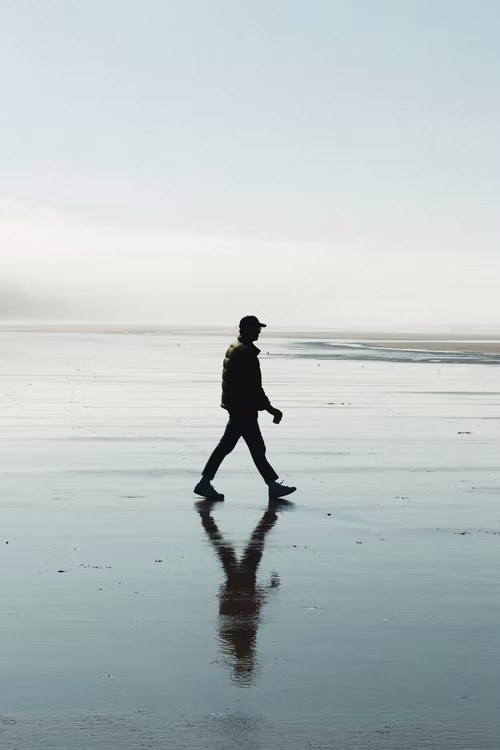person: (192, 314, 296, 498)
